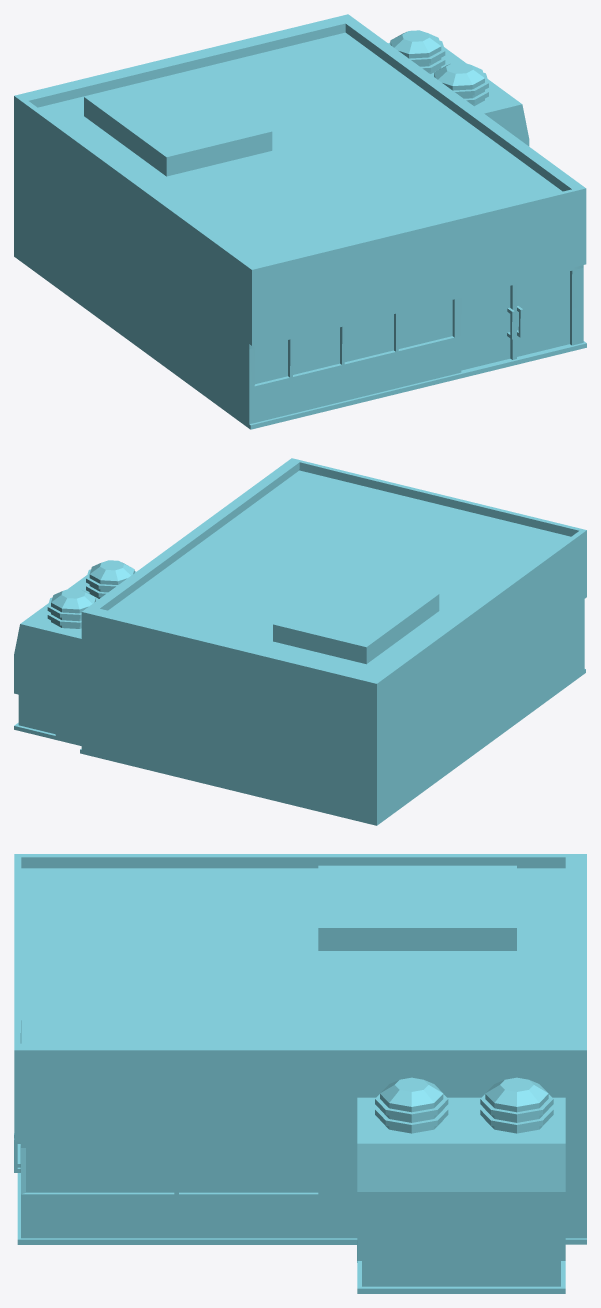
The model's file is Store_low.fbx.
3 renders of one model, top to bottom at view 1: azimuth 30°, elevation 25°; view 2: azimuth 150°, elevation 25°; view 3: azimuth 270°, elevation 25°, orthographic. The views are drawn at different scales.
Visible parts, largest first — view 1: Store; view 2: Store; view 3: Store.
Part boxes in pixels (x1,y1,x2,y2): Store: [14, 14, 586, 429]; Store: [14, 458, 586, 825]; Store: [14, 854, 586, 1293].
Bounding box in the file's own units: 116 × 45.02 × 114.
